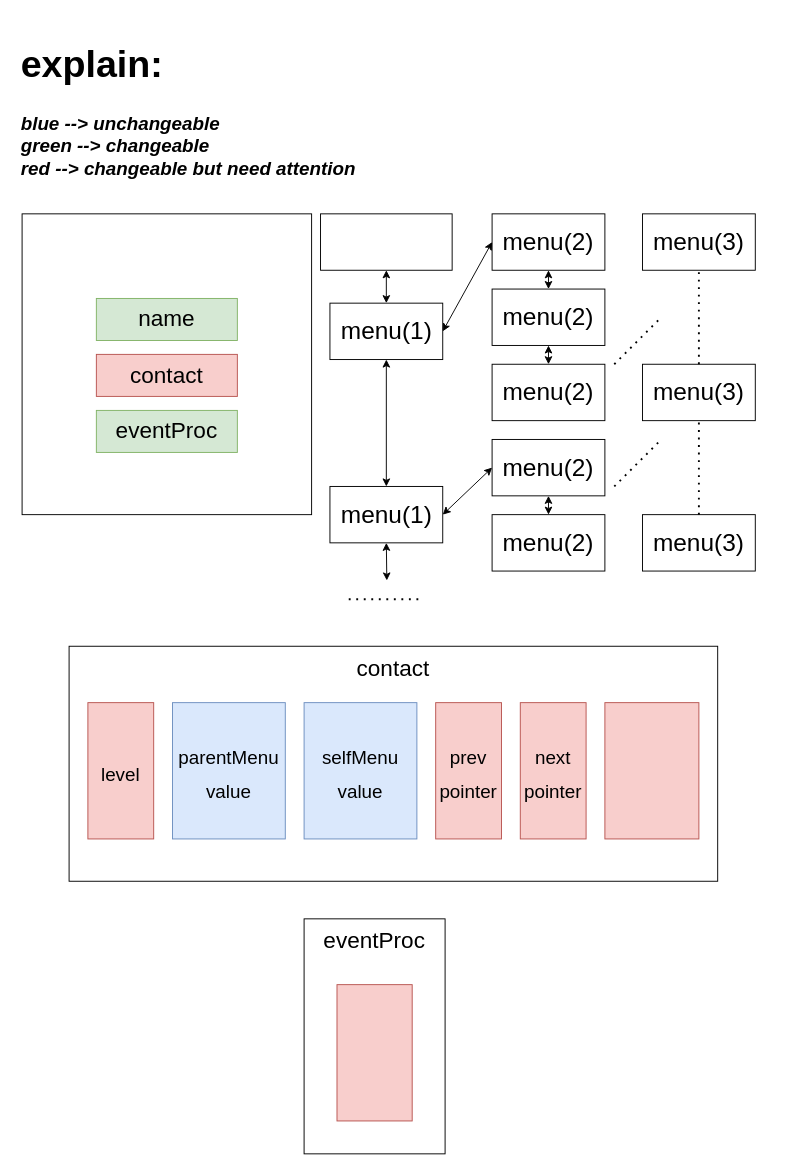
This 803x1170 diagram has some shape labels left out. Each missing label, with the box of its shape:
event callBack function: (336, 984, 412, 1121)
menu: (21, 213, 312, 515)
menu_start: (320, 213, 452, 270)
nextLecel pointer: (604, 702, 699, 839)
